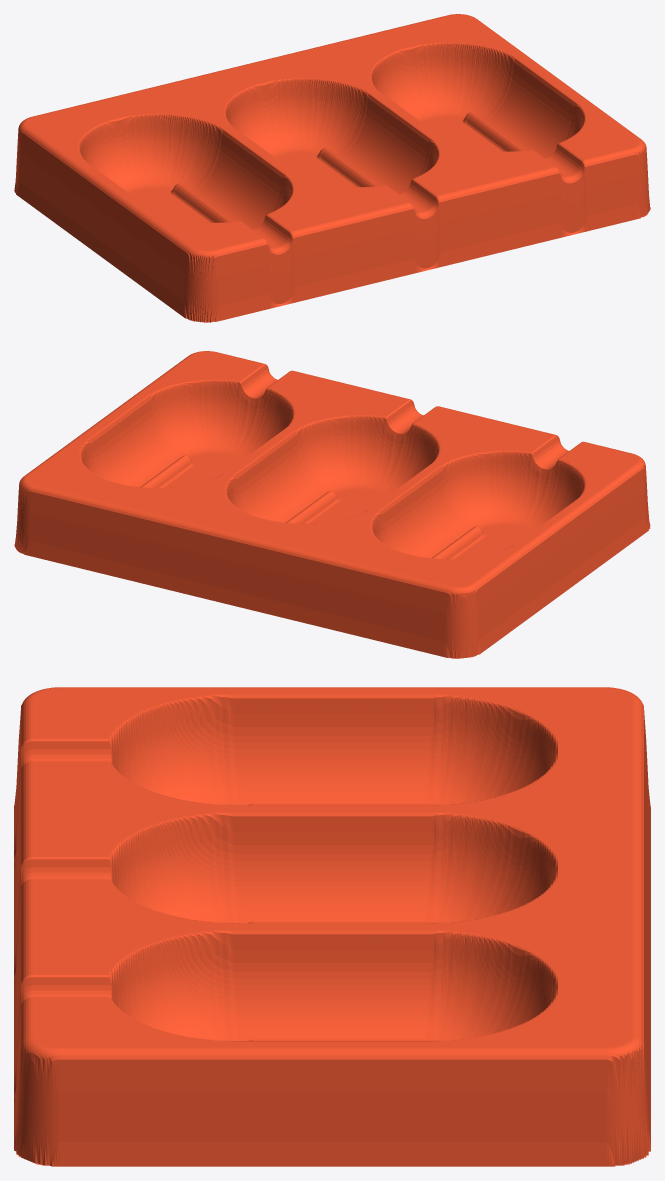
The model's file is mold.glb.
The picture shows the model from 3 angles, top to bottom: view 1: azimuth 30°, elevation 25°; view 2: azimuth 150°, elevation 25°; view 3: azimuth 270°, elevation 25°; orthographic projection. The views are drawn at different scales.
Visible parts, largest first — view 1: geometry_0; view 2: geometry_0; view 3: geometry_0.
Part boxes in pixels (x1,y1,x2,y2): geometry_0: (14,14,650,322); geometry_0: (14,351,650,658); geometry_0: (14,687,650,1166).
Size of the model in its own units: 0.1774 by 0.0245 by 0.1273.
